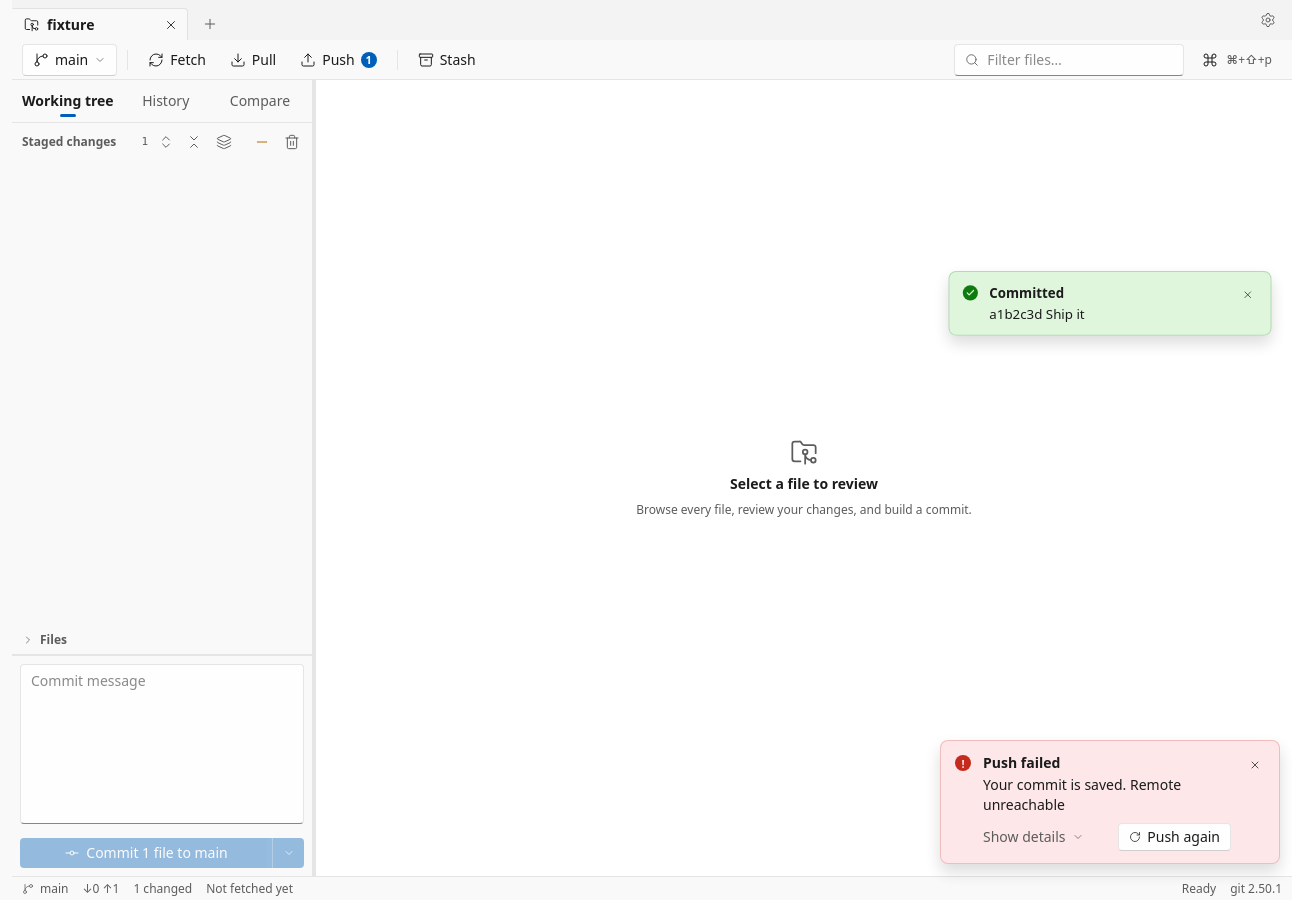
Test: commit and push › reports a failed push without hiding the commit
Expected: the button "Commit 1 file to main" is shown, left=20, top=838, right=272, bottom=868
Expected: the text "Push failed" is shown, left=983, top=753, right=1060, bottom=772
What coordinates should you click on to do the following:
click the button "Push again"
I would click on:
 (1175, 837)
Its box is left=1118, top=823, right=1231, bottom=851.
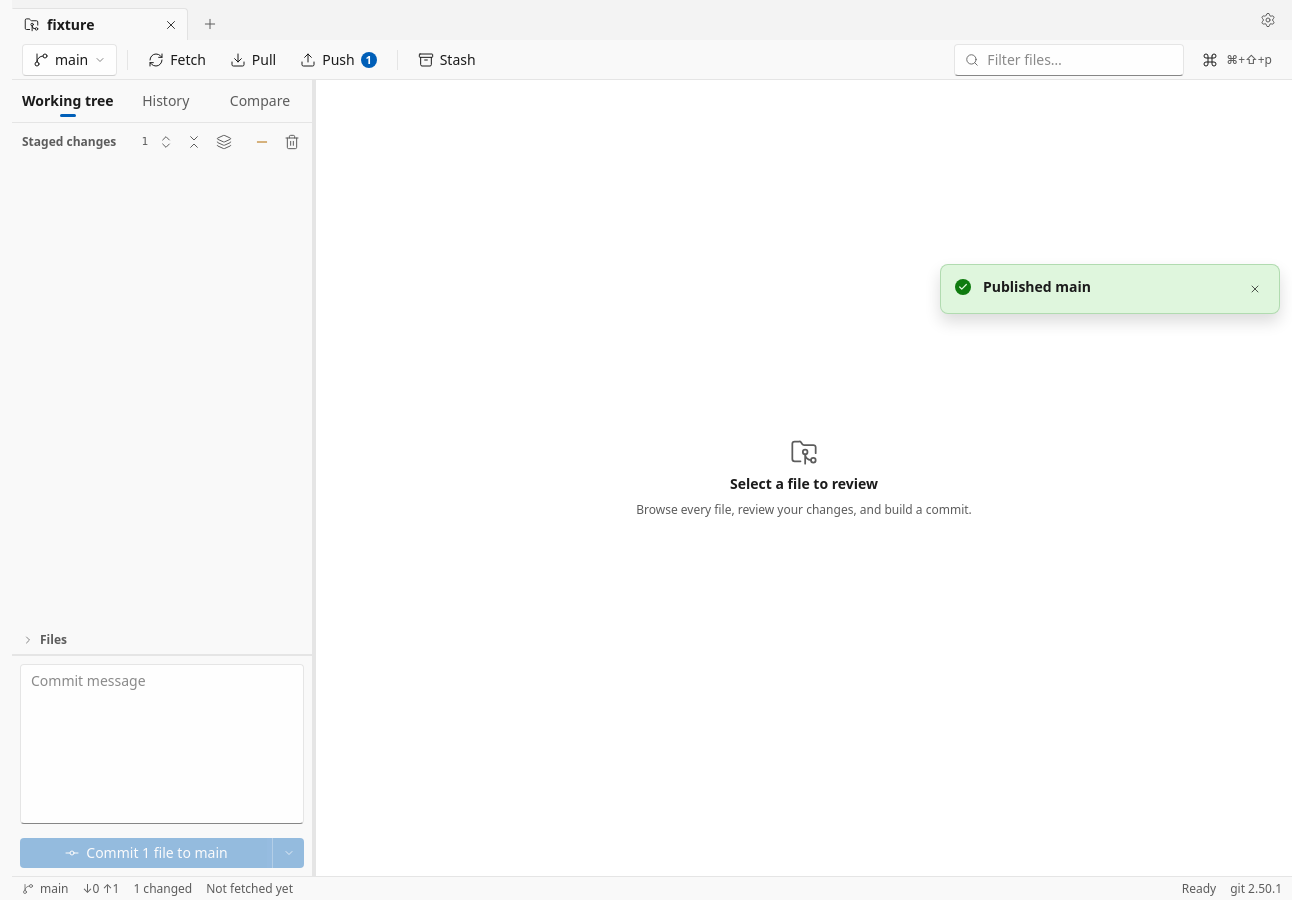
Expected: the text "Push failed" is gone
